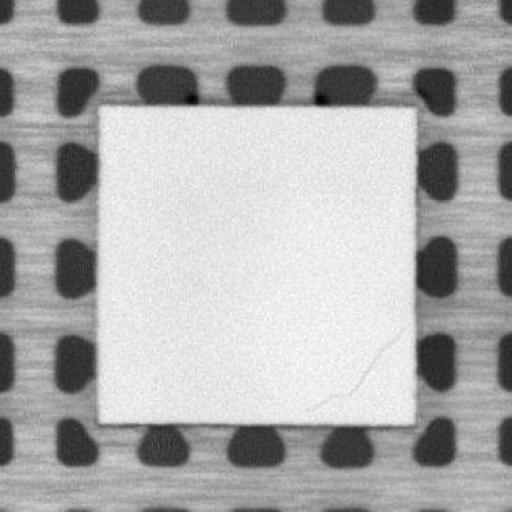DIE_CRACK: (313, 327, 402, 408)
